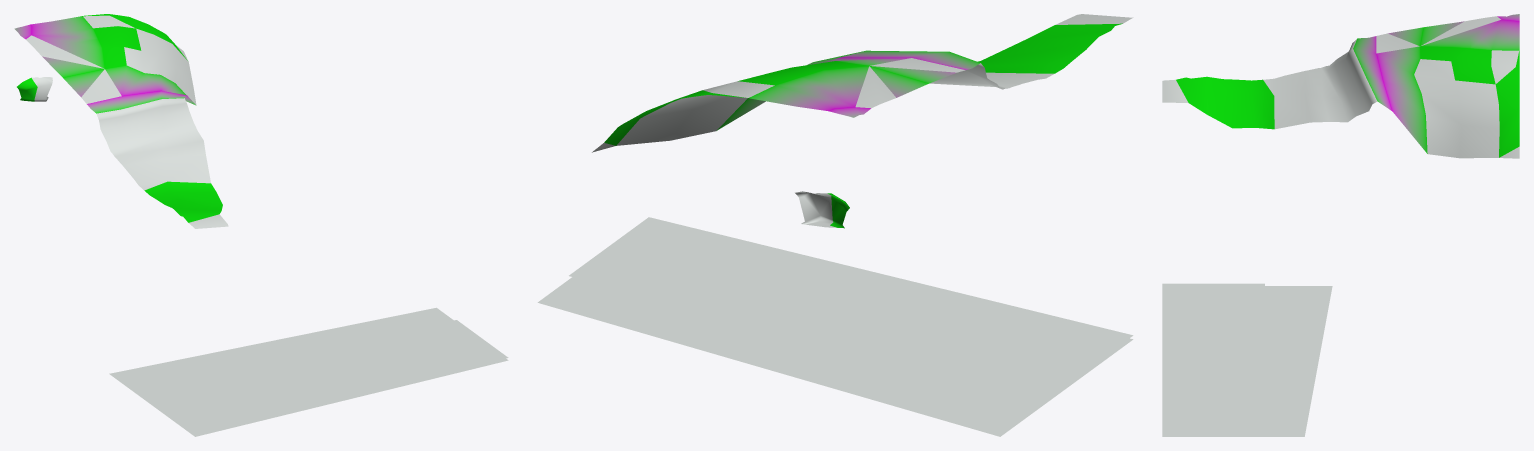
3 renders of one model, left to right at view 1: azimuth 30°, elevation 25°; view 2: azimuth 150°, elevation 25°; view 3: azimuth 270°, elevation 25°, orthographic. The views are drawn at different scales.
Parts seen in each view (by area): view 1: G:\FFXIV-MapTools\exports\f1f1\bg\ffxiv\fst_f1\fld\f1f1\bgpl (×9); view 2: G:\FFXIV-MapTools\exports\f1f1\bg\ffxiv\fst_f1\fld\f1f1\bgpl (×9); view 3: G:\FFXIV-MapTools\exports\f1f1\bg\ffxiv\fst_f1\fld\f1f1\bgpl (×9).
Boxes of the visible parts, x1,y1,x2,y2 form: G:\FFXIV-MapTools\exports\f1f1\bg\ffxiv\fst_f1\fld\f1f1\bgpl (×9): (14,14,508,436); G:\FFXIV-MapTools\exports\f1f1\bg\ffxiv\fst_f1\fld\f1f1\bgpl (×9): (537,14,1133,436); G:\FFXIV-MapTools\exports\f1f1\bg\ffxiv\fst_f1\fld\f1f1\bgpl (×9): (1162,14,1519,436).
Size of the model in its own units: 128 by 108 by 128.
